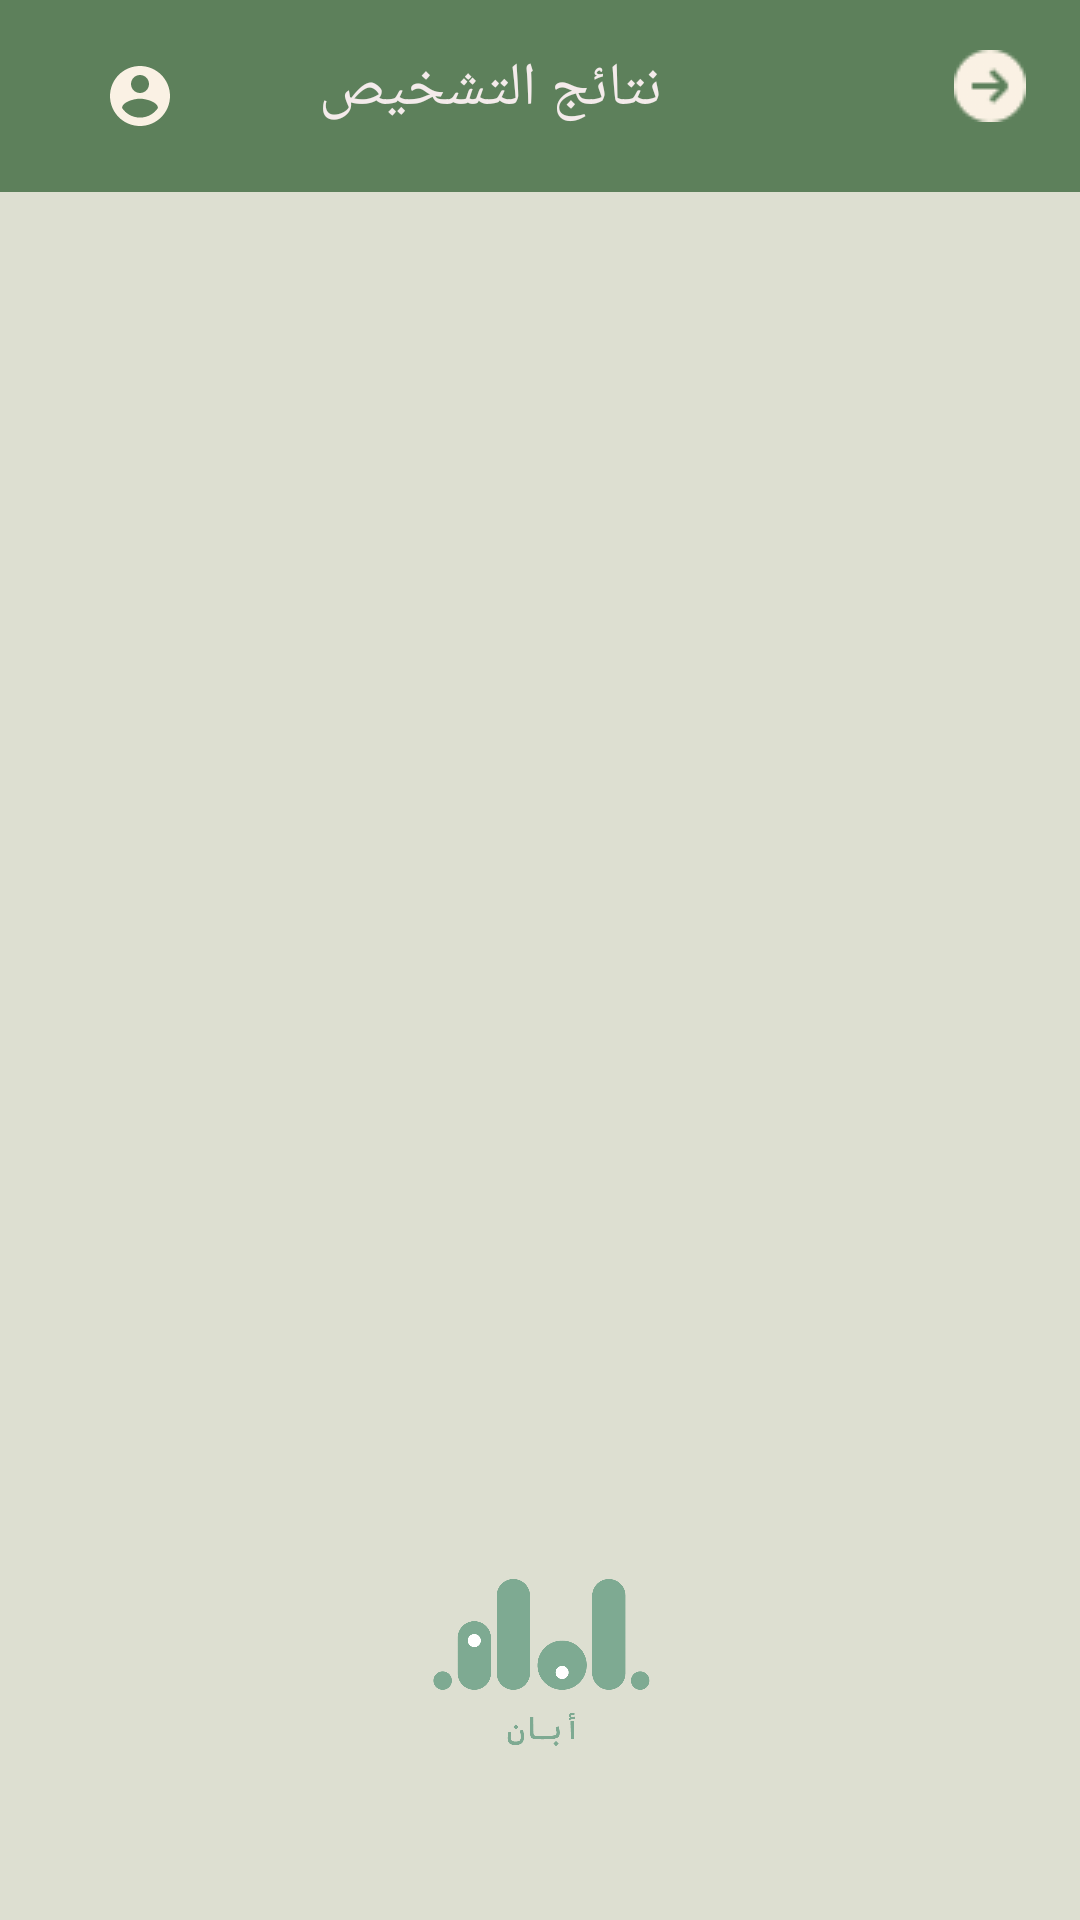

Screen size 1080 × 1920. Icon name, then its box in pixels as (x1, y1, x2, y2):
account: (110, 66, 170, 126)
